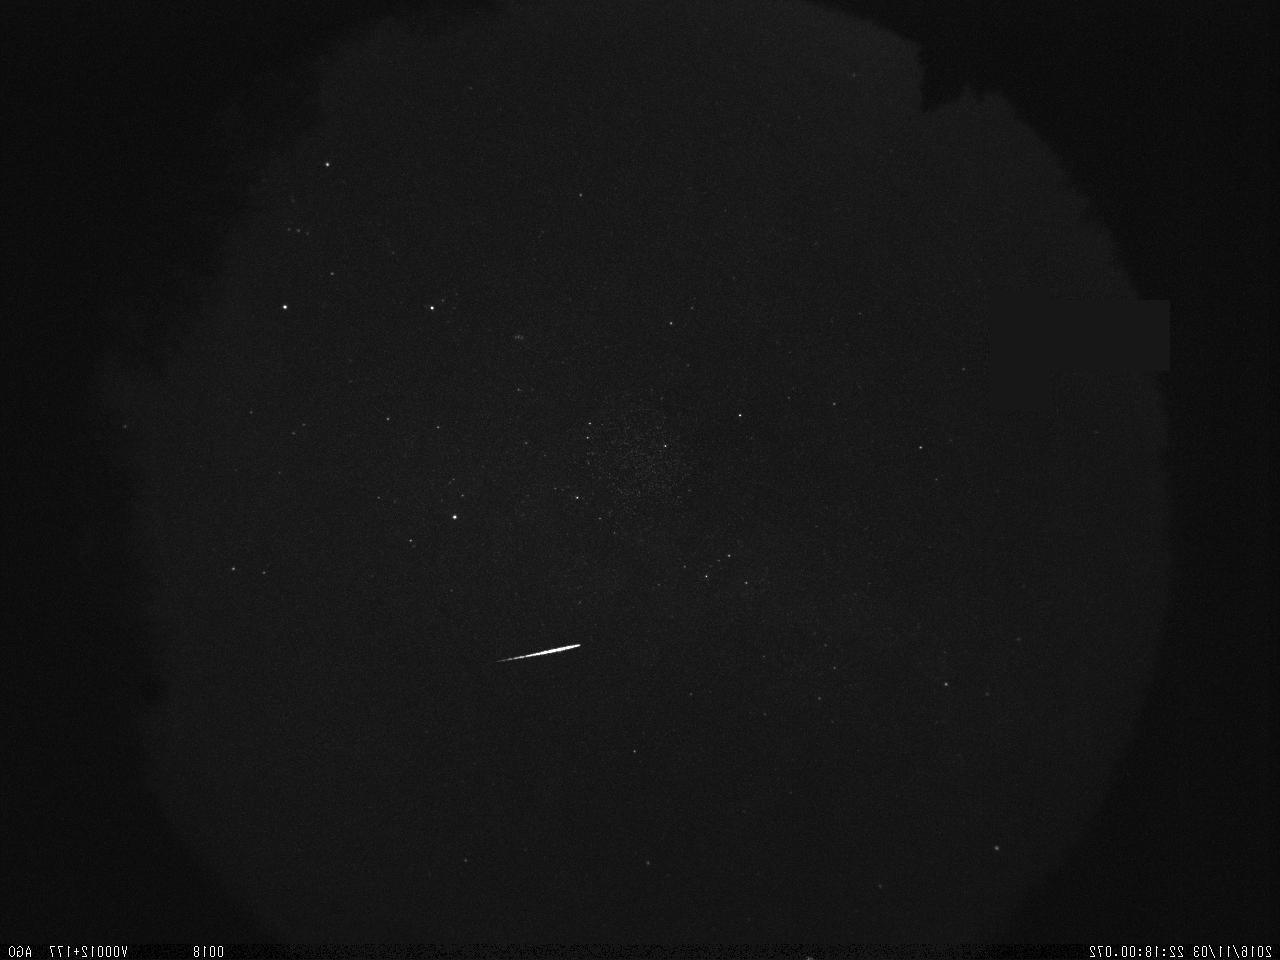meteor: (492, 636, 585, 679)
